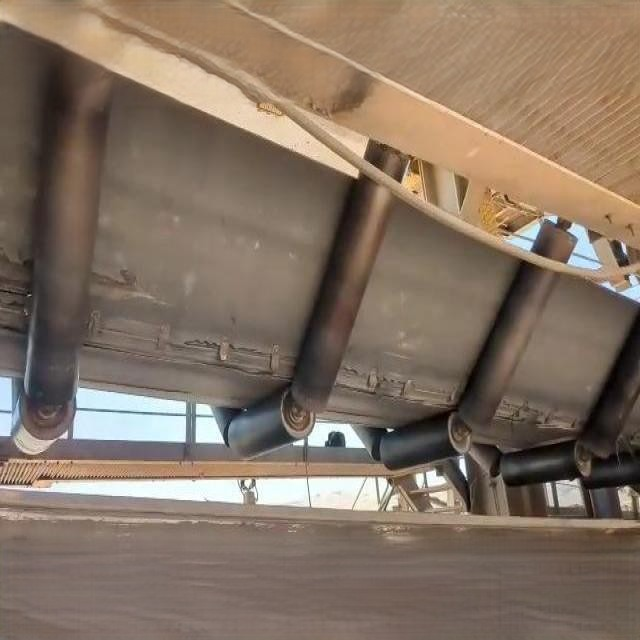Tear: (80, 304, 300, 388), (332, 351, 461, 416), (492, 390, 586, 441), (0, 293, 34, 345)
Wear: (73, 253, 171, 311), (0, 240, 36, 297)
